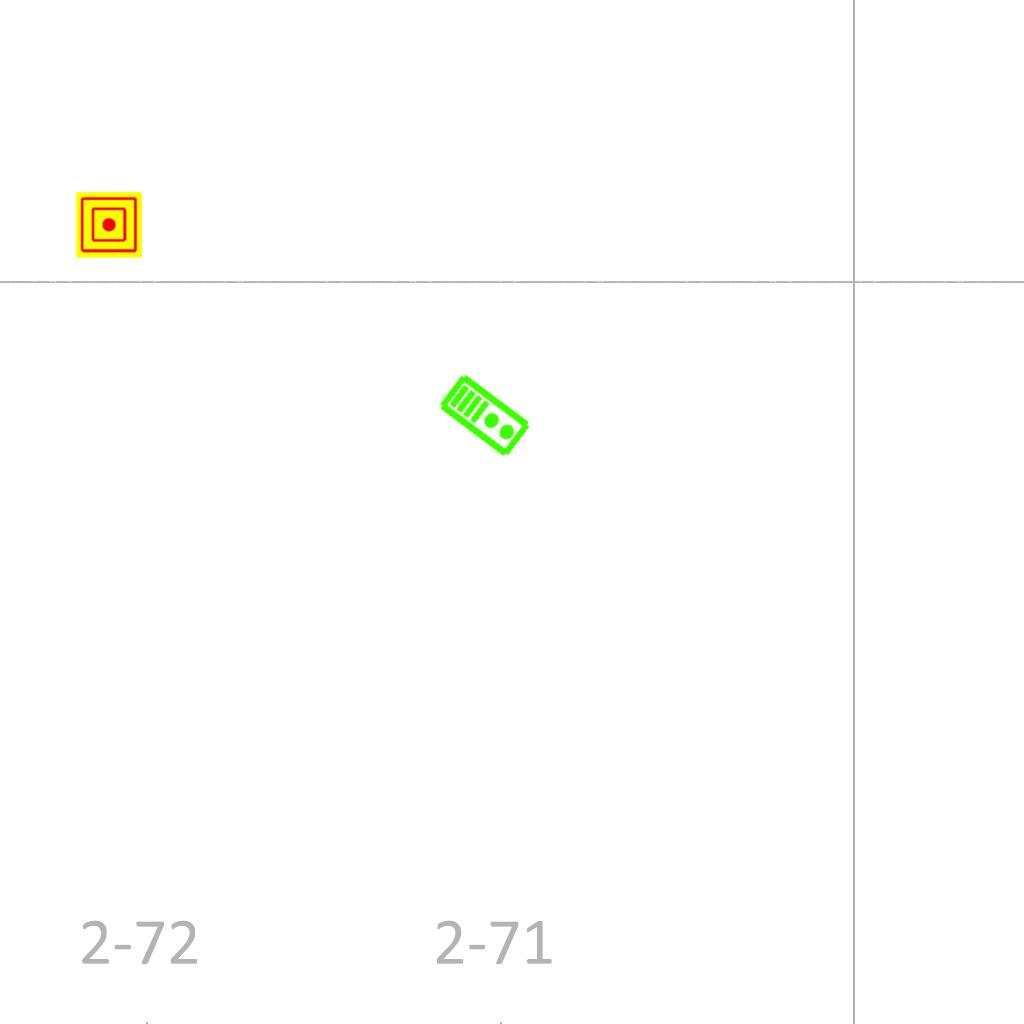Gegensprechanlage_mit_Video: (436, 369, 535, 461)
NAM-Nichtautomatischer_Melder: (76, 192, 142, 258)
